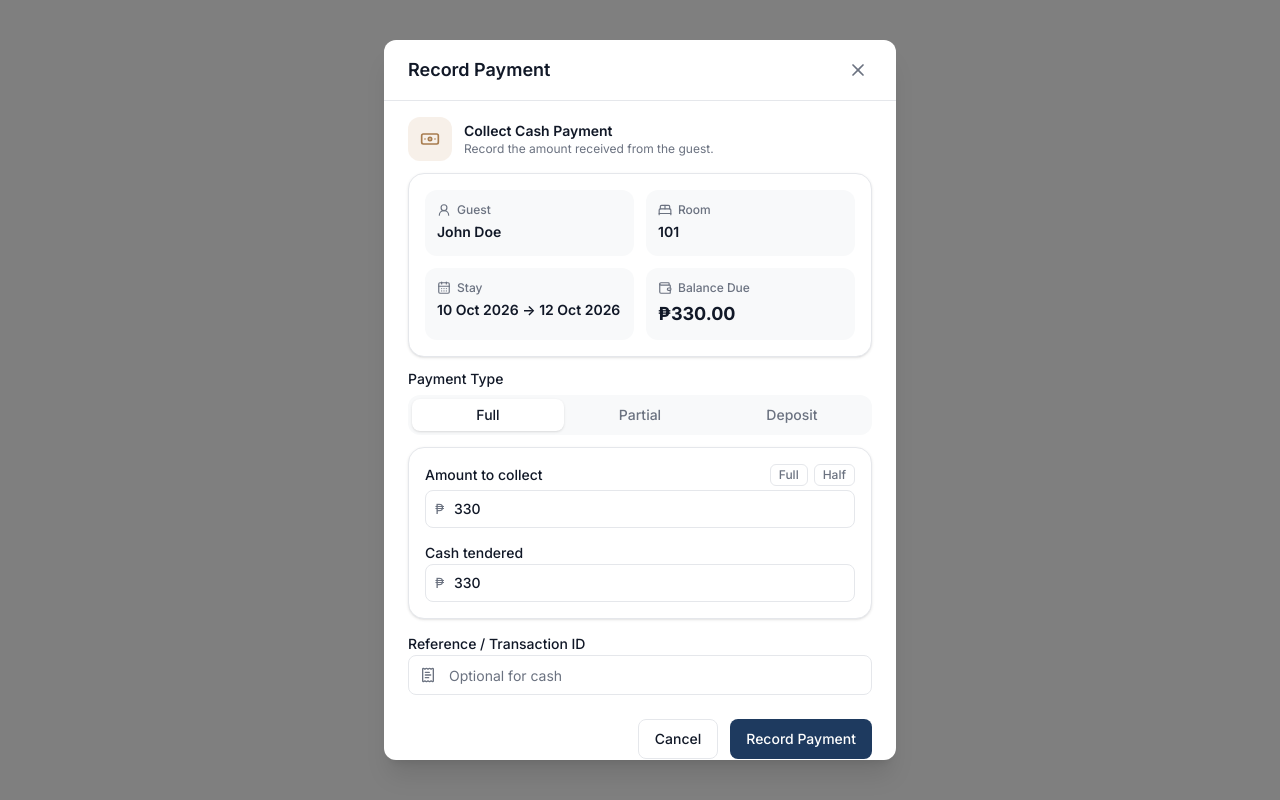
Scenario: PaymentModal › restores the full amount via the Full quick button
Replace the text in the number field named "Amount to collect" with "100" at {"x": 640, "y": 509}, box [425, 490, 855, 528]
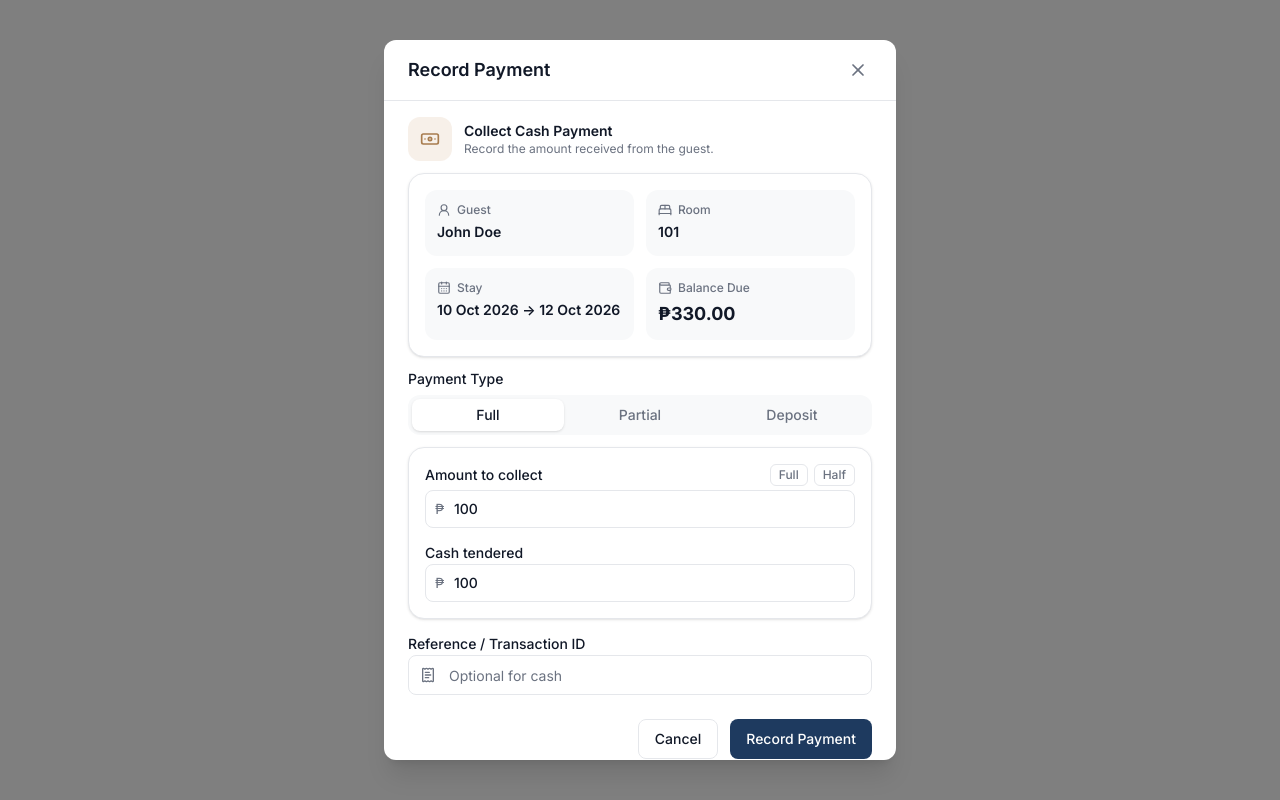
Click the button "Full" at {"x": 789, "y": 475}, box [770, 464, 808, 486]
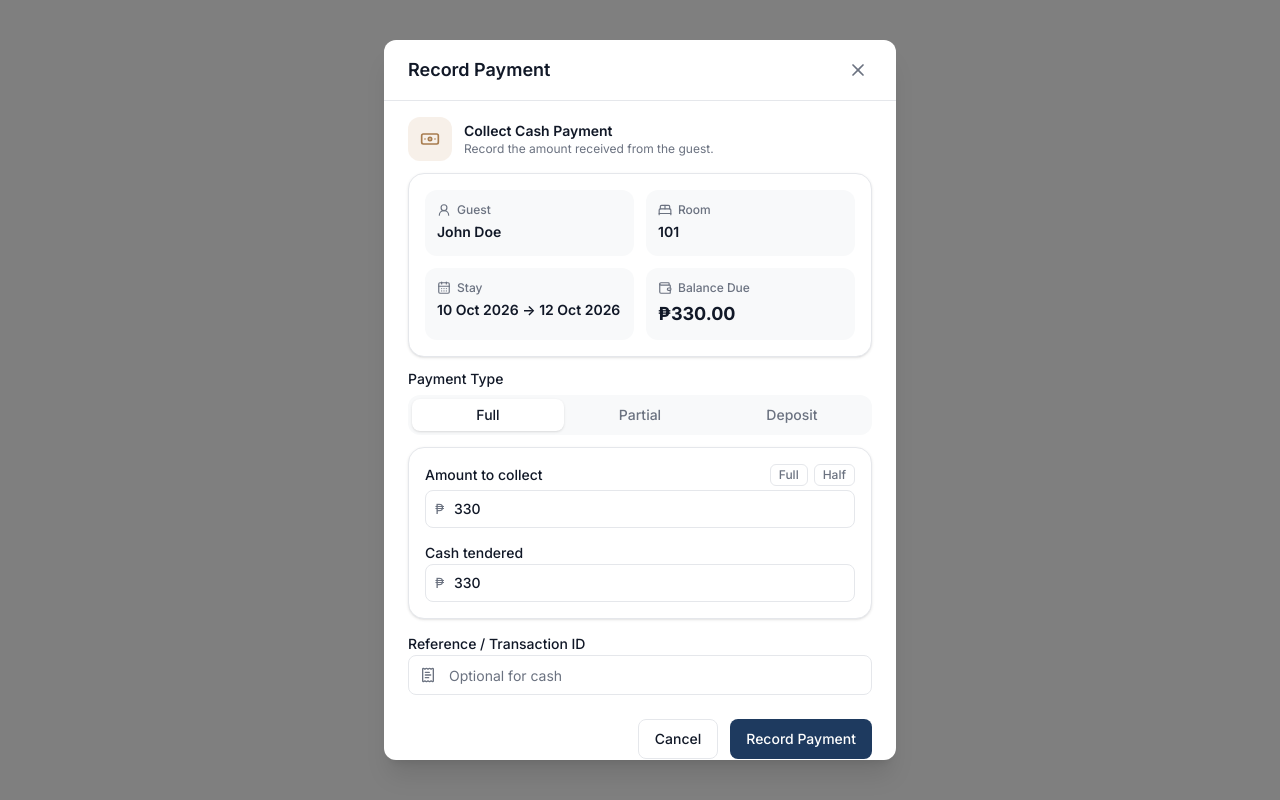
Expected: the number field named "Amount to collect" holds "330", [425, 490, 855, 528]
